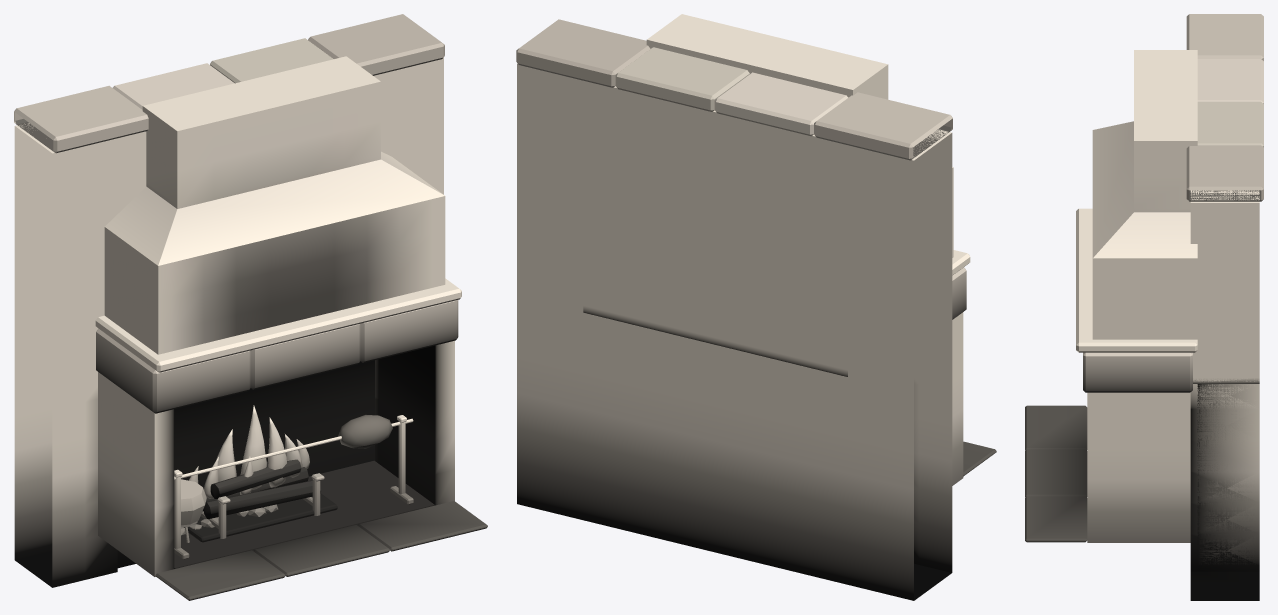
The model's file is SM_VKI_Wall_Stone_Hearth_300_Full.fbx.
3 views of the same model, side by side, from view 1: azimuth 30°, elevation 25°; view 2: azimuth 150°, elevation 25°; view 3: azimuth 270°, elevation 25° (orthographic). The views are drawn at different scales.
Visible parts, largest first — view 1: SM_VKI_Wall_Stone_Hearth_300_Full.001; view 2: SM_VKI_Wall_Stone_Hearth_300_Full.001; view 3: SM_VKI_Wall_Stone_Hearth_300_Full.001.
Part boxes in pixels (x1,y1,x2,y2): SM_VKI_Wall_Stone_Hearth_300_Full.001: (14, 14, 487, 600); SM_VKI_Wall_Stone_Hearth_300_Full.001: (516, 14, 996, 600); SM_VKI_Wall_Stone_Hearth_300_Full.001: (1025, 14, 1263, 600).
Size of the model in its own units: 3 by 3.34 by 1.73.
